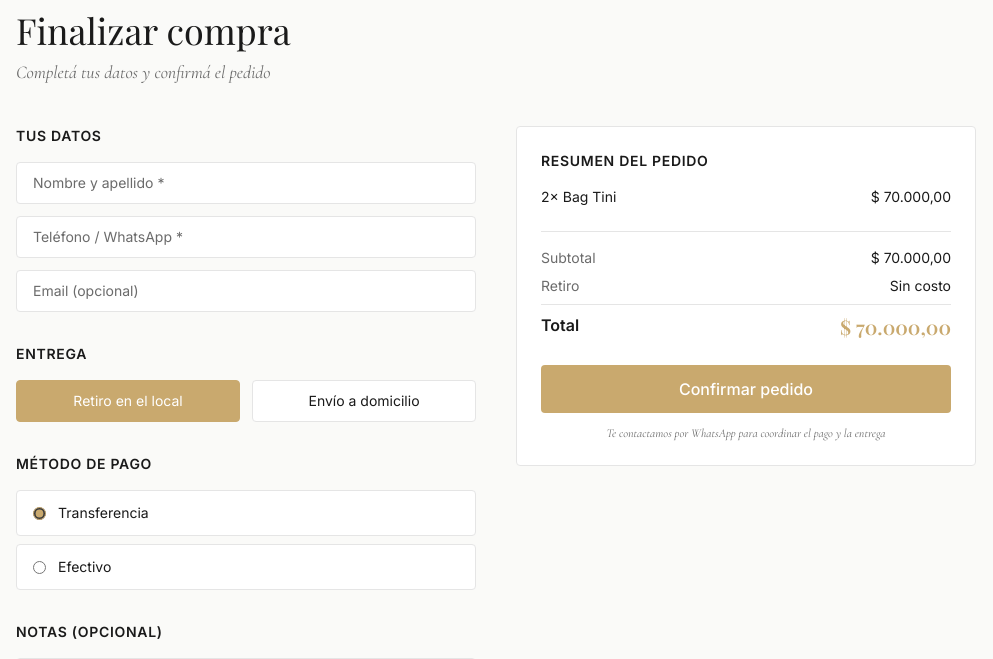
Test: Checkout › pide la dirección cuando la entrega es envío
Click the button "Envío a domicilio": (364, 401) [252, 380, 476, 422]
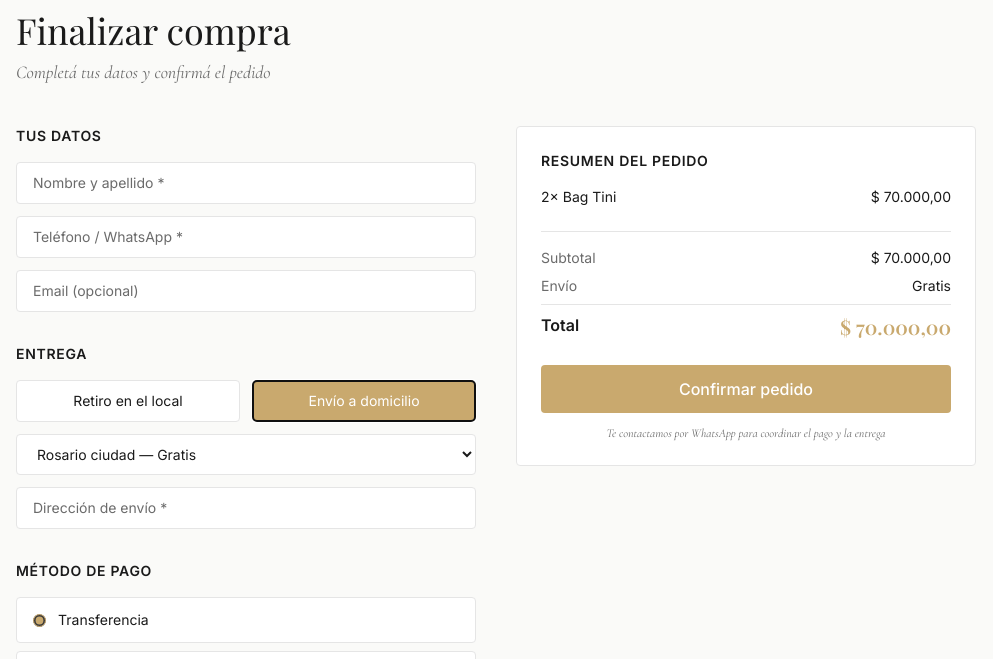
In the field with placeholder "Nombre y apellido *": (246, 183) [16, 162, 476, 204], type "Juan Pérez"
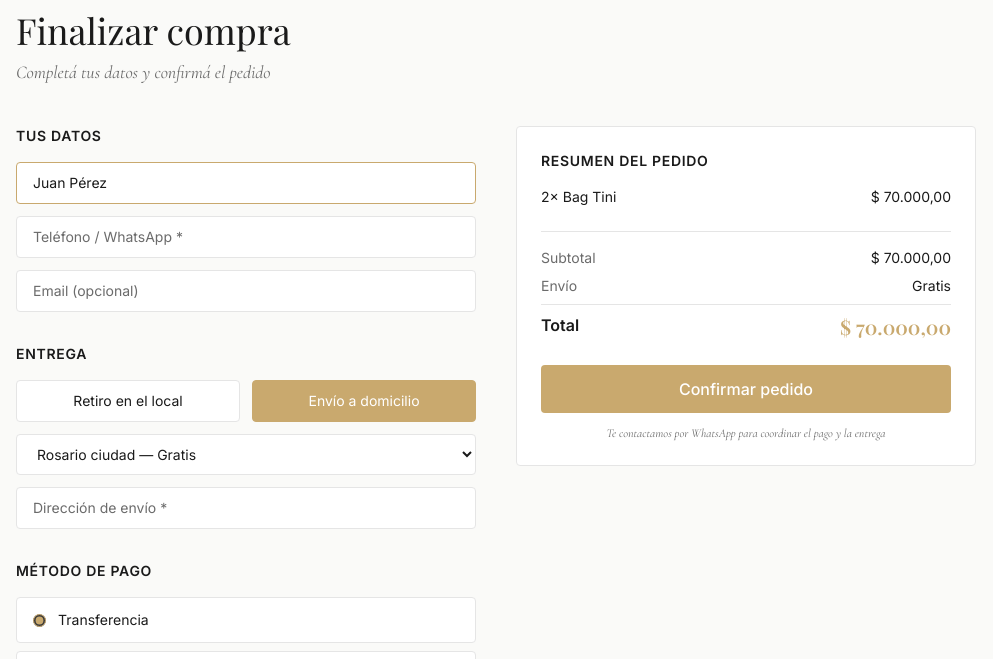
In the field with placeholder "Teléfono / WhatsApp *": (246, 237) [16, 216, 476, 258], type "3411234567"
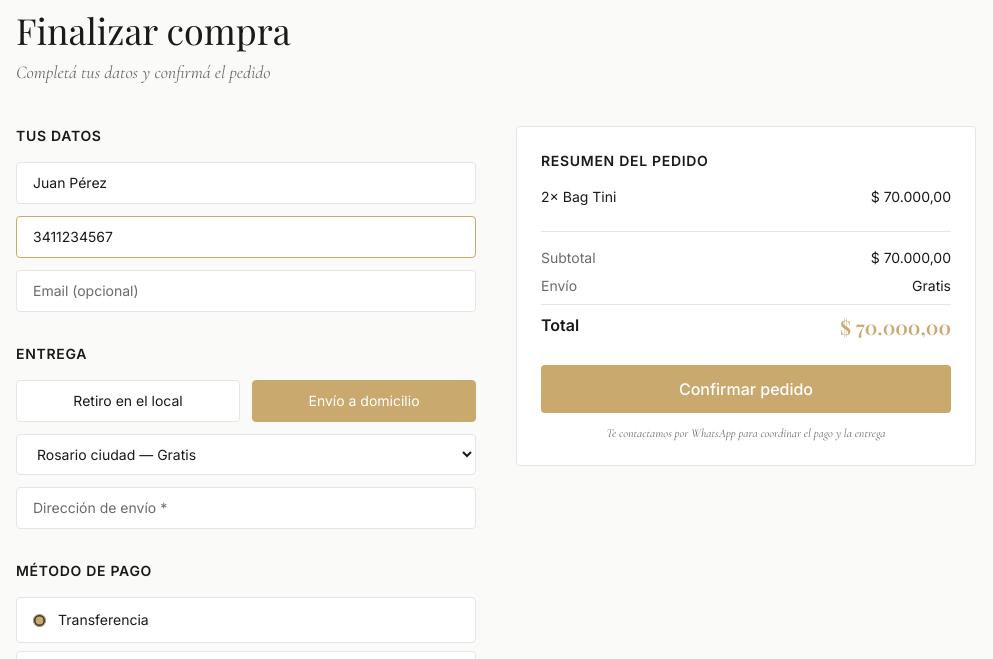
Click the button "Confirmar pedido": (746, 389) [541, 365, 951, 413]
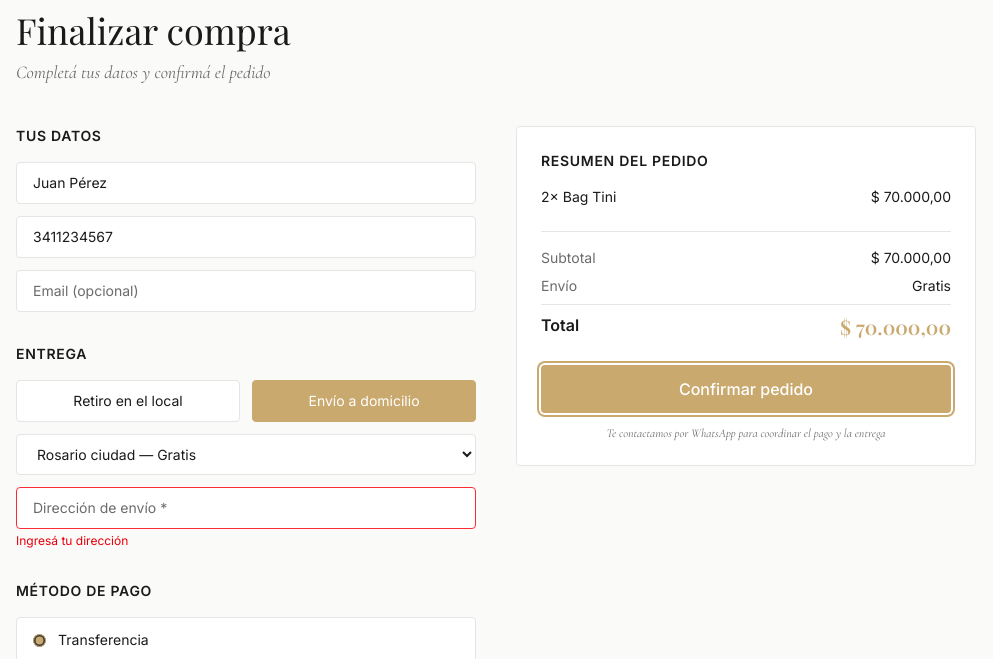
expect the text "Ingresá tu dirección" is shown: met, box [16, 533, 128, 548]
